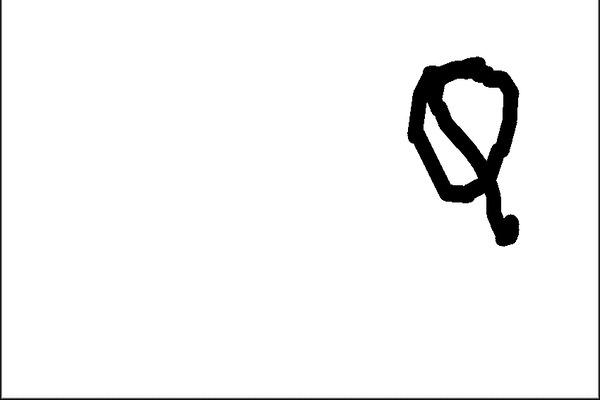Q: (393, 47, 529, 256)
